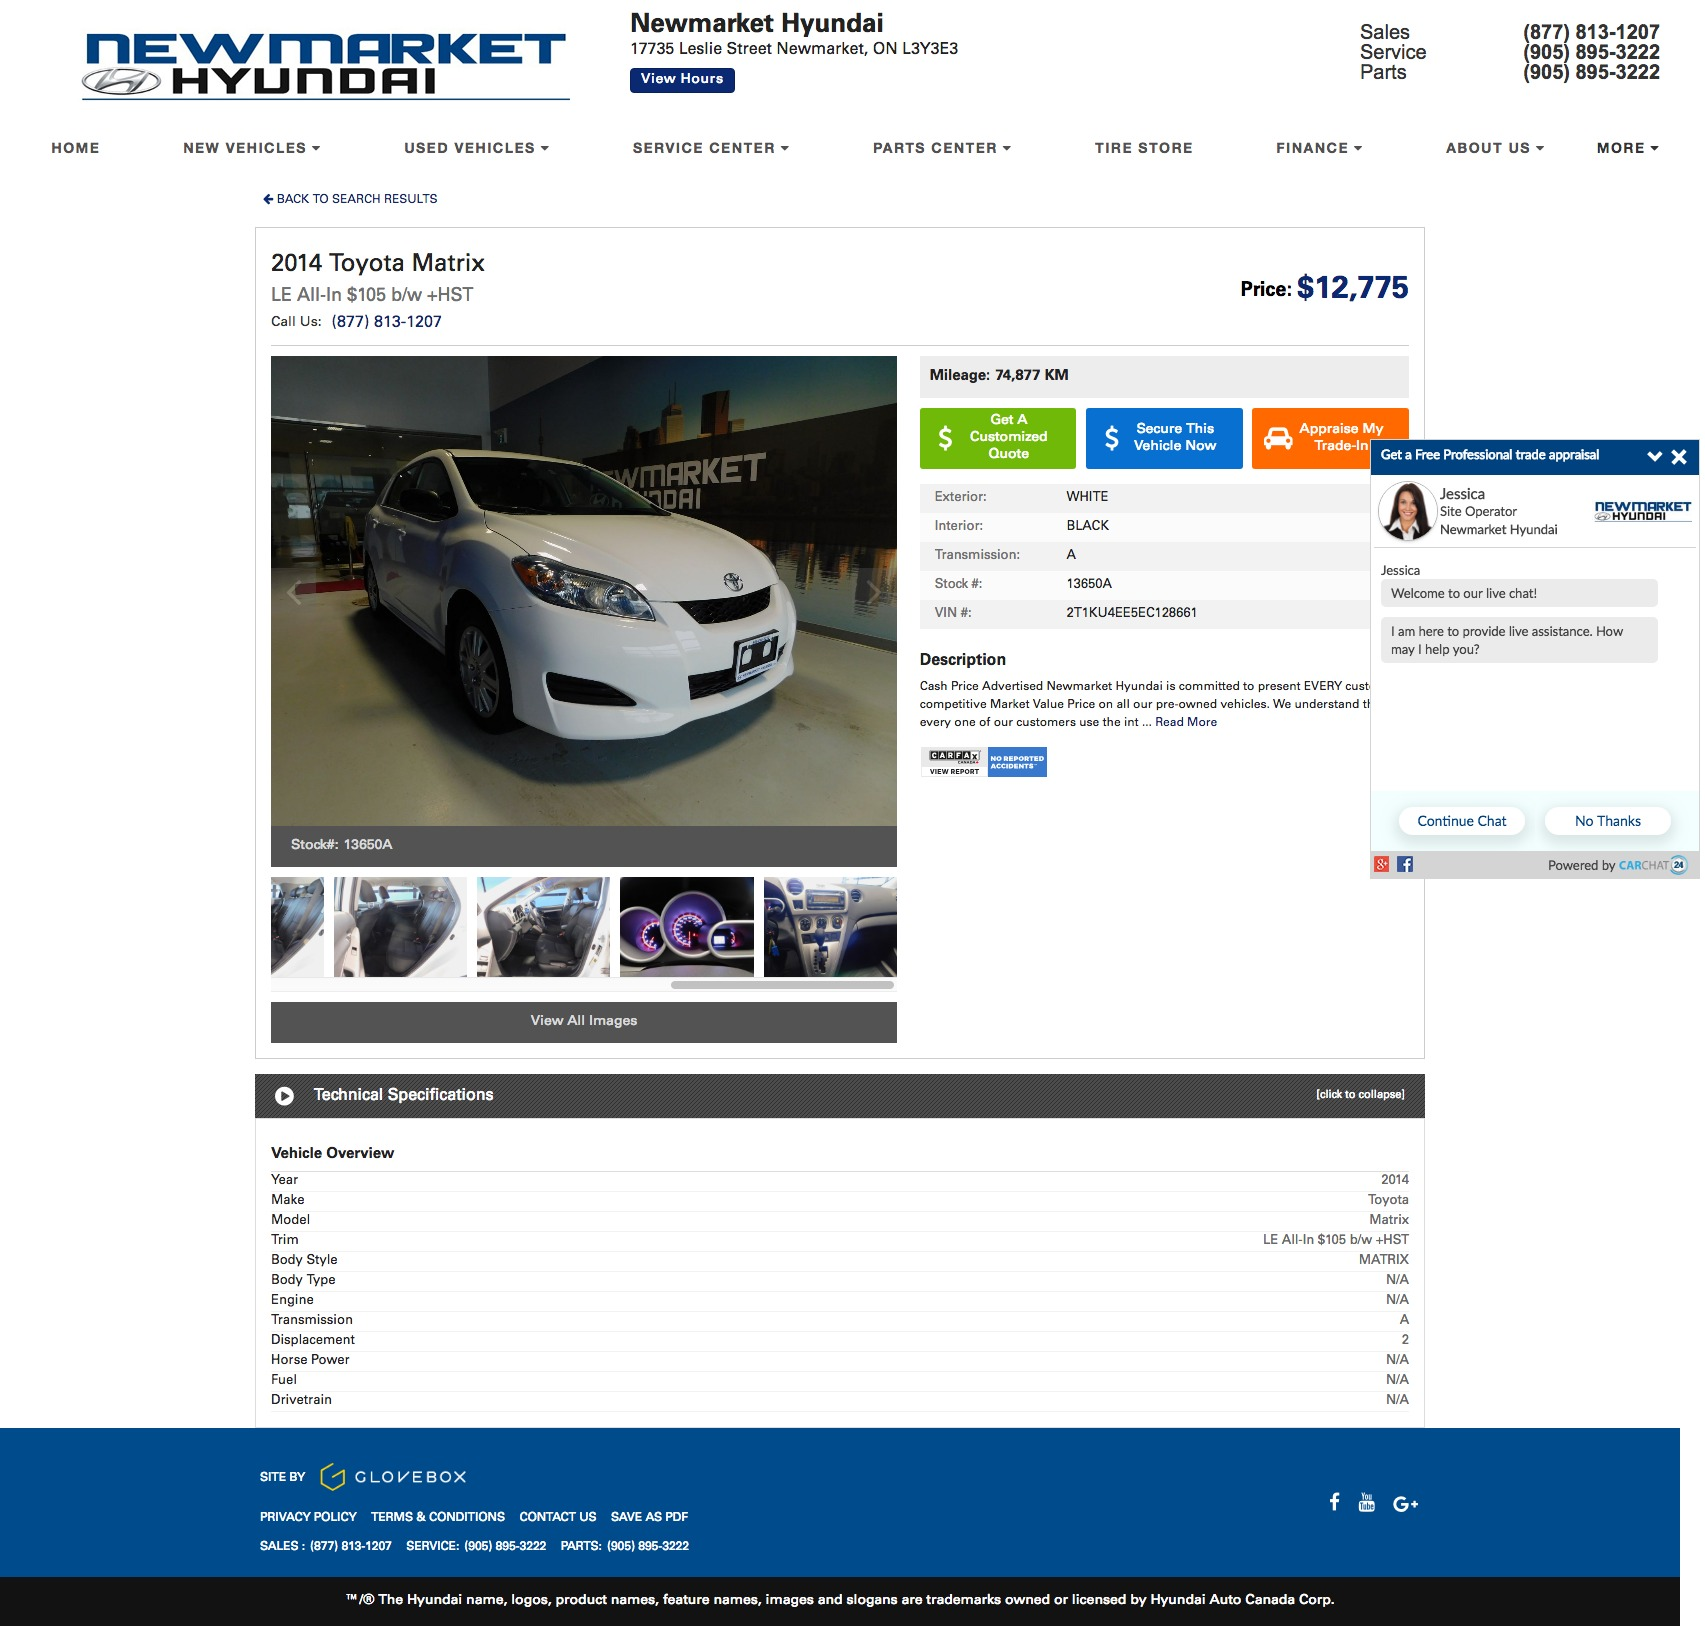car: (857, 566, 900, 612)
